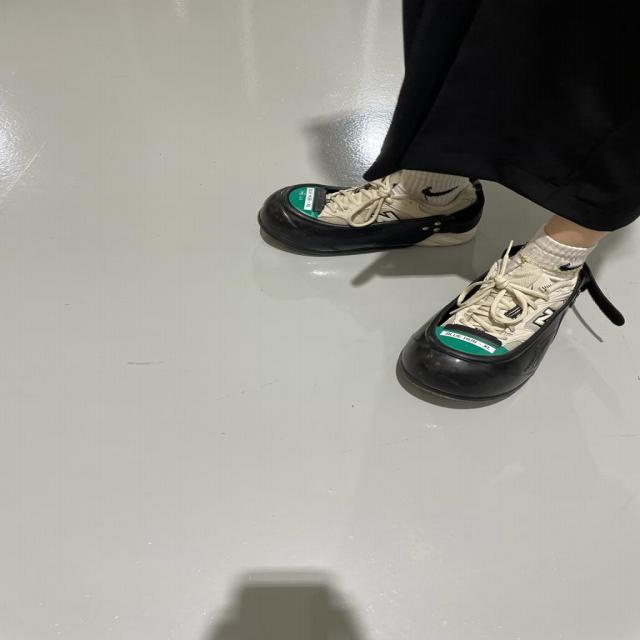shoes: (382, 259, 608, 410), (253, 177, 486, 256)
